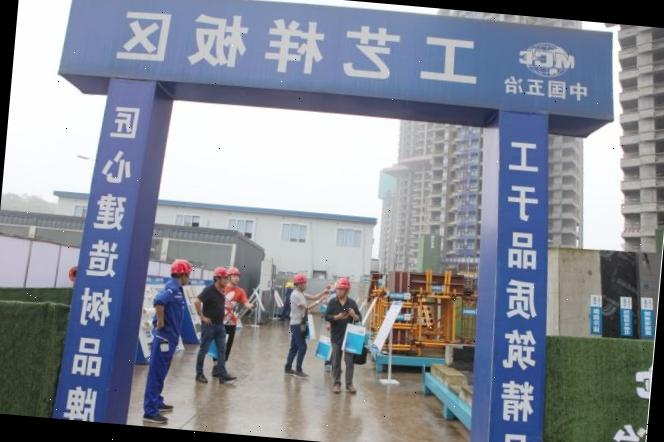helmet: (167, 259, 193, 276), (332, 277, 350, 291), (224, 266, 241, 278), (211, 267, 226, 278), (292, 274, 306, 285)
no_wear: (326, 296, 359, 346), (200, 282, 228, 330), (220, 285, 248, 328), (288, 291, 308, 327)
wear: (154, 282, 186, 342)
